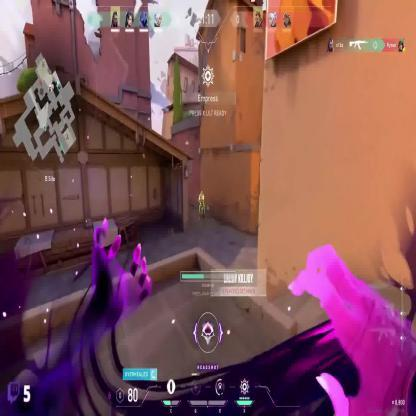enemy: (198, 191, 205, 221)
enemy_head: (200, 191, 203, 196)
